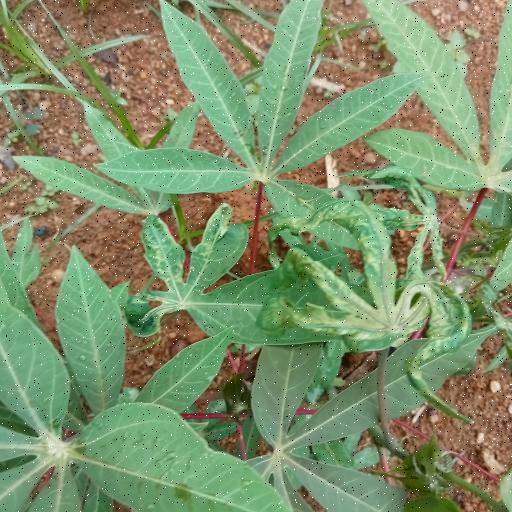Cassava_Mosaic: (113, 2, 410, 228), (270, 206, 484, 427), (132, 197, 246, 343)
